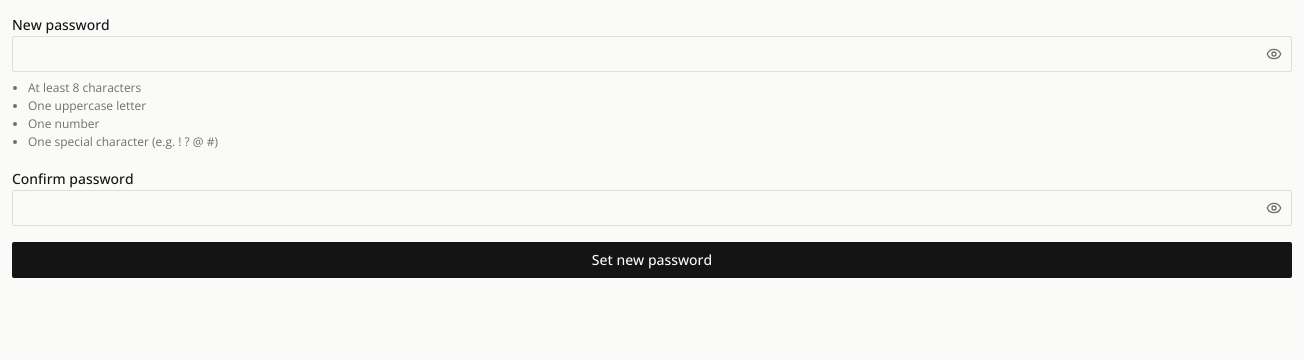
Scenario: ResetPasswordForm — token + error contract › a thrown rejection shows the generic error and resets the button
This screenshot has width=1304, height=360.
Type "Abcdefgh1!" into the password field labelled "New password". click: (652, 54)
box: [12, 36, 1292, 72]
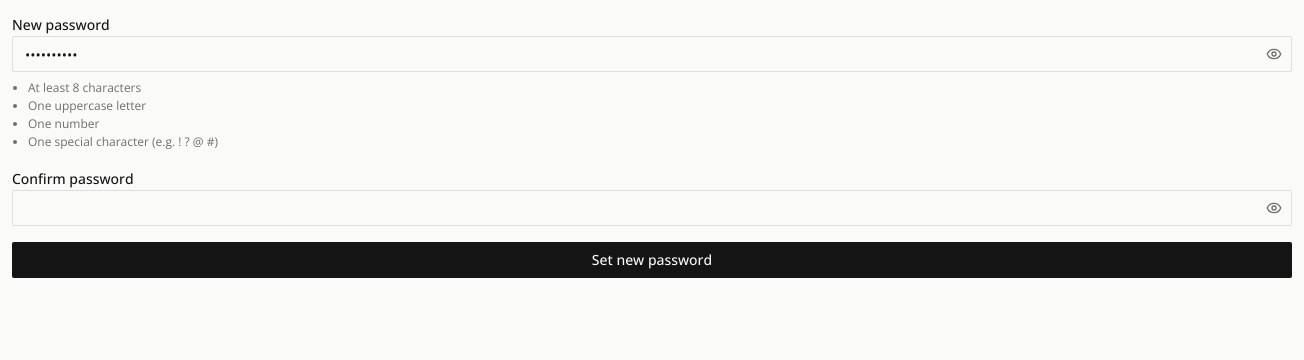
Type "Abcdefgh1!" into the password field labelled "Confirm password". click: (652, 208)
box: [12, 190, 1292, 226]
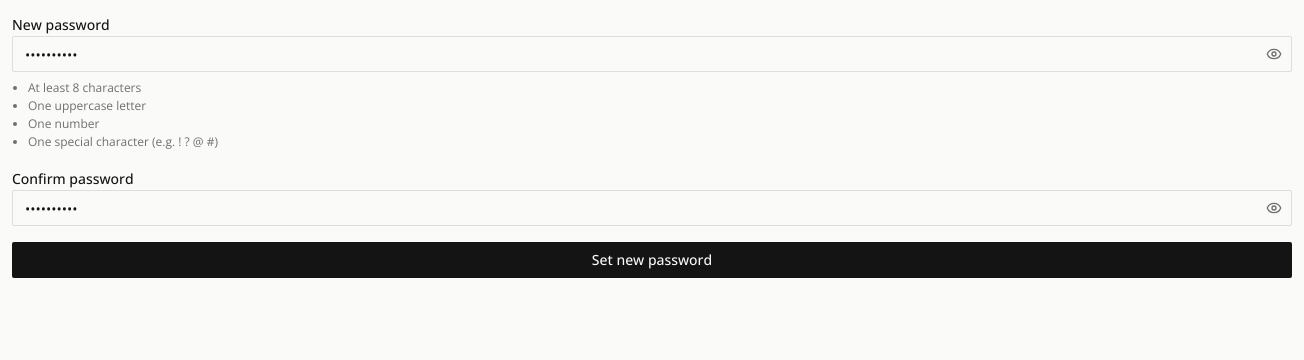
Click the button "Set new password". click: click(652, 260)
box: [12, 242, 1292, 278]
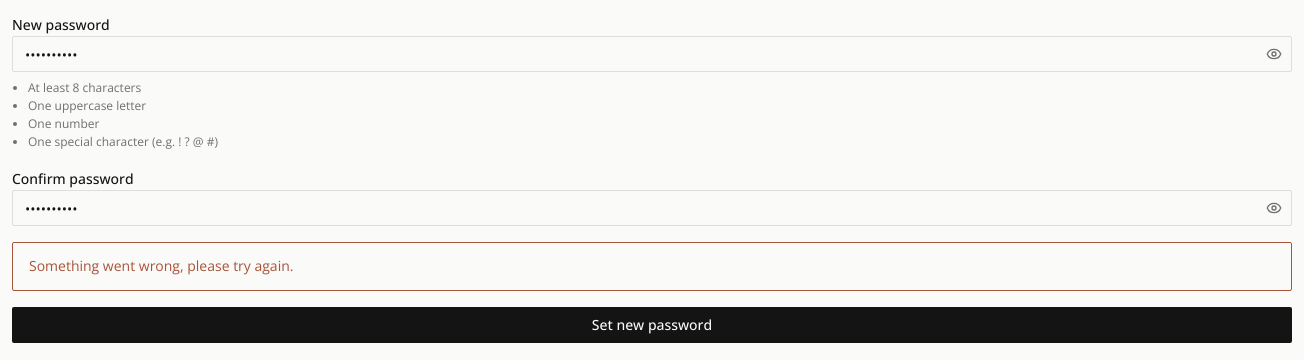
Check: the button "Set new password" is enabled, box [12, 307, 1292, 343]
Check: the text "Something went wrong, please try again." is shown, box [29, 256, 294, 275]
